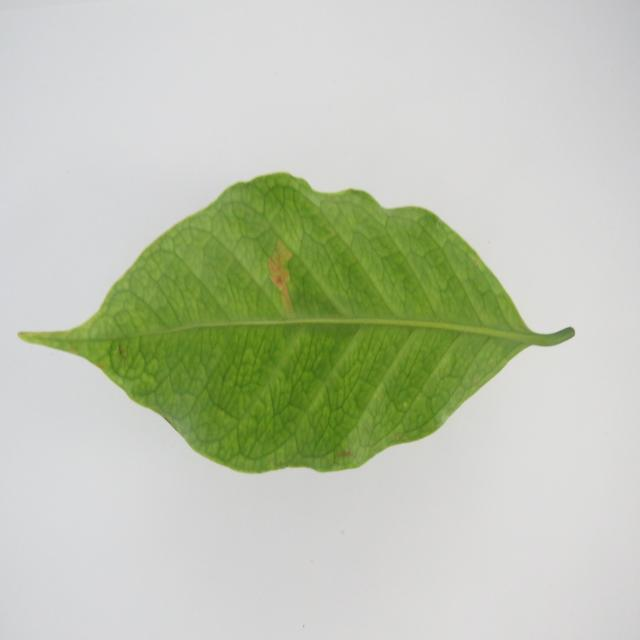DeficienciaNutricional-Calcio: (20, 173, 574, 472)
